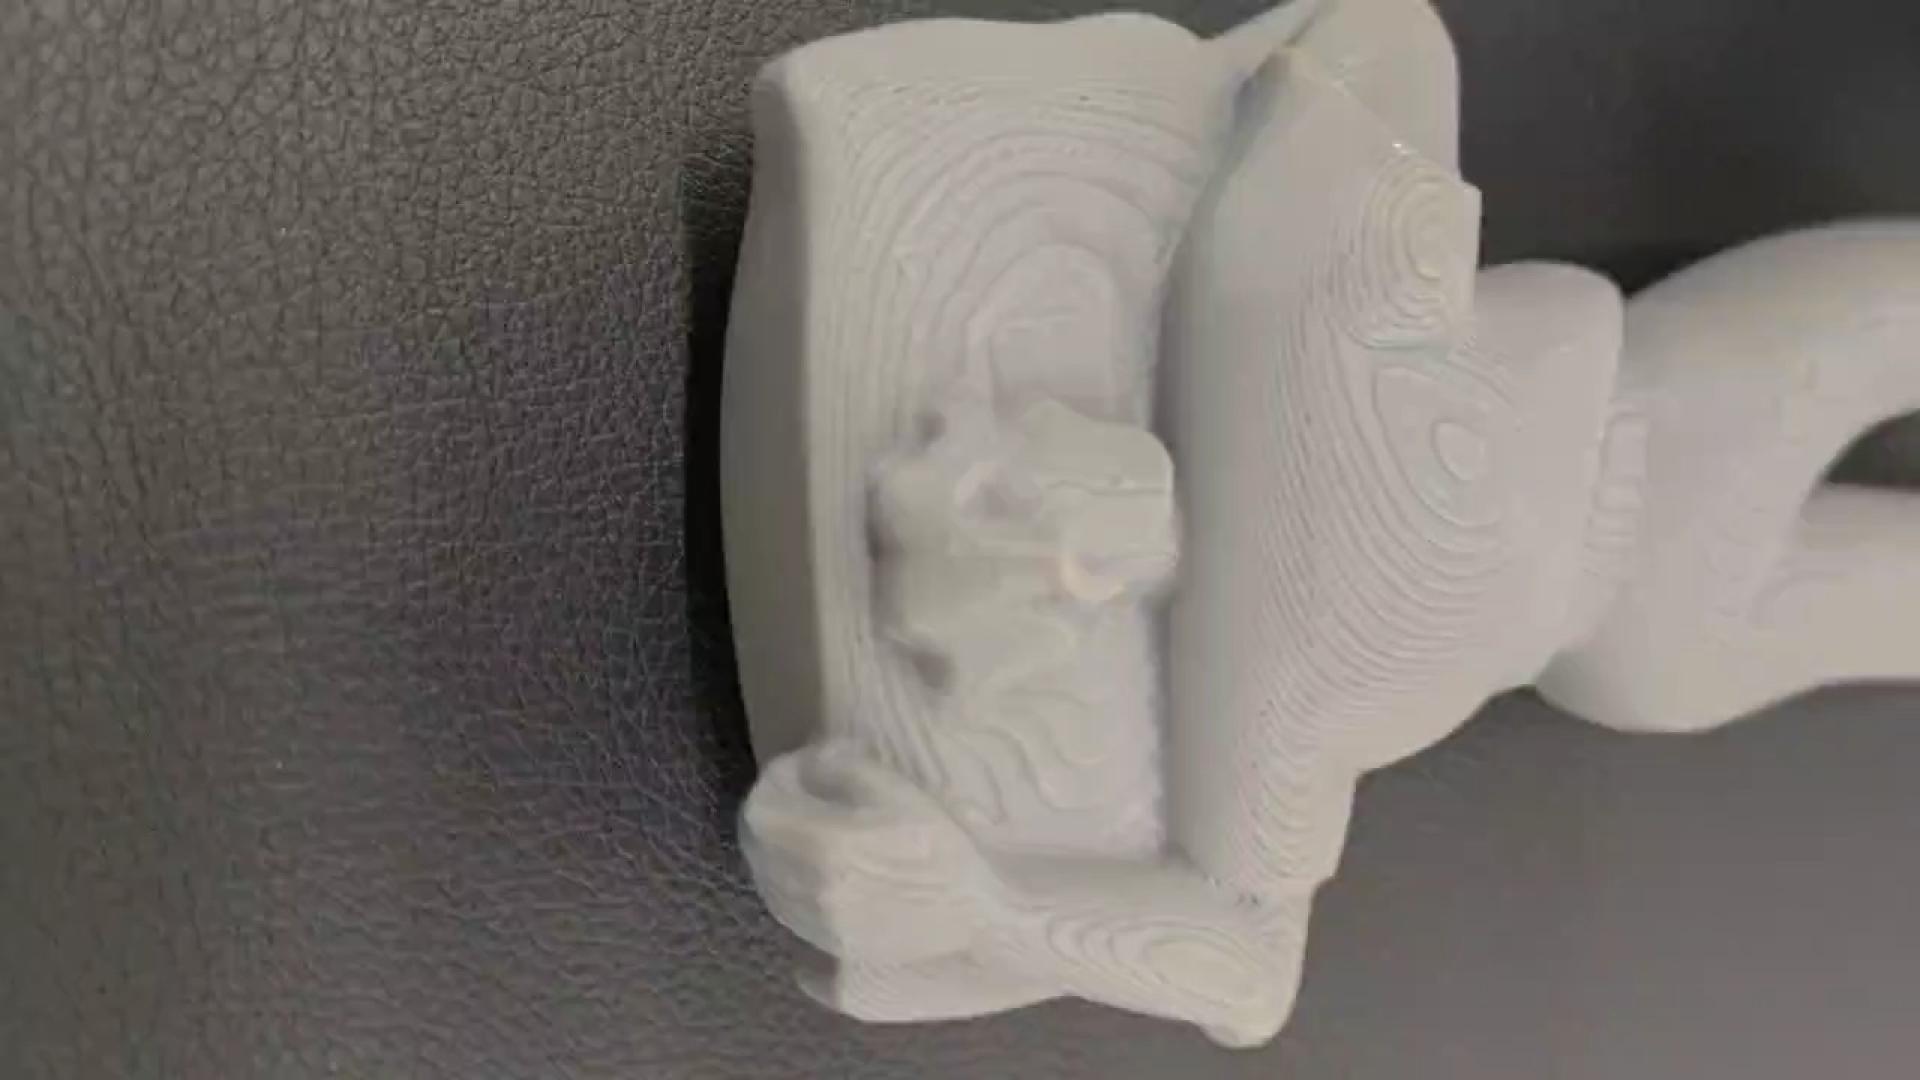Bad-style: (694, 0, 1920, 1069)
